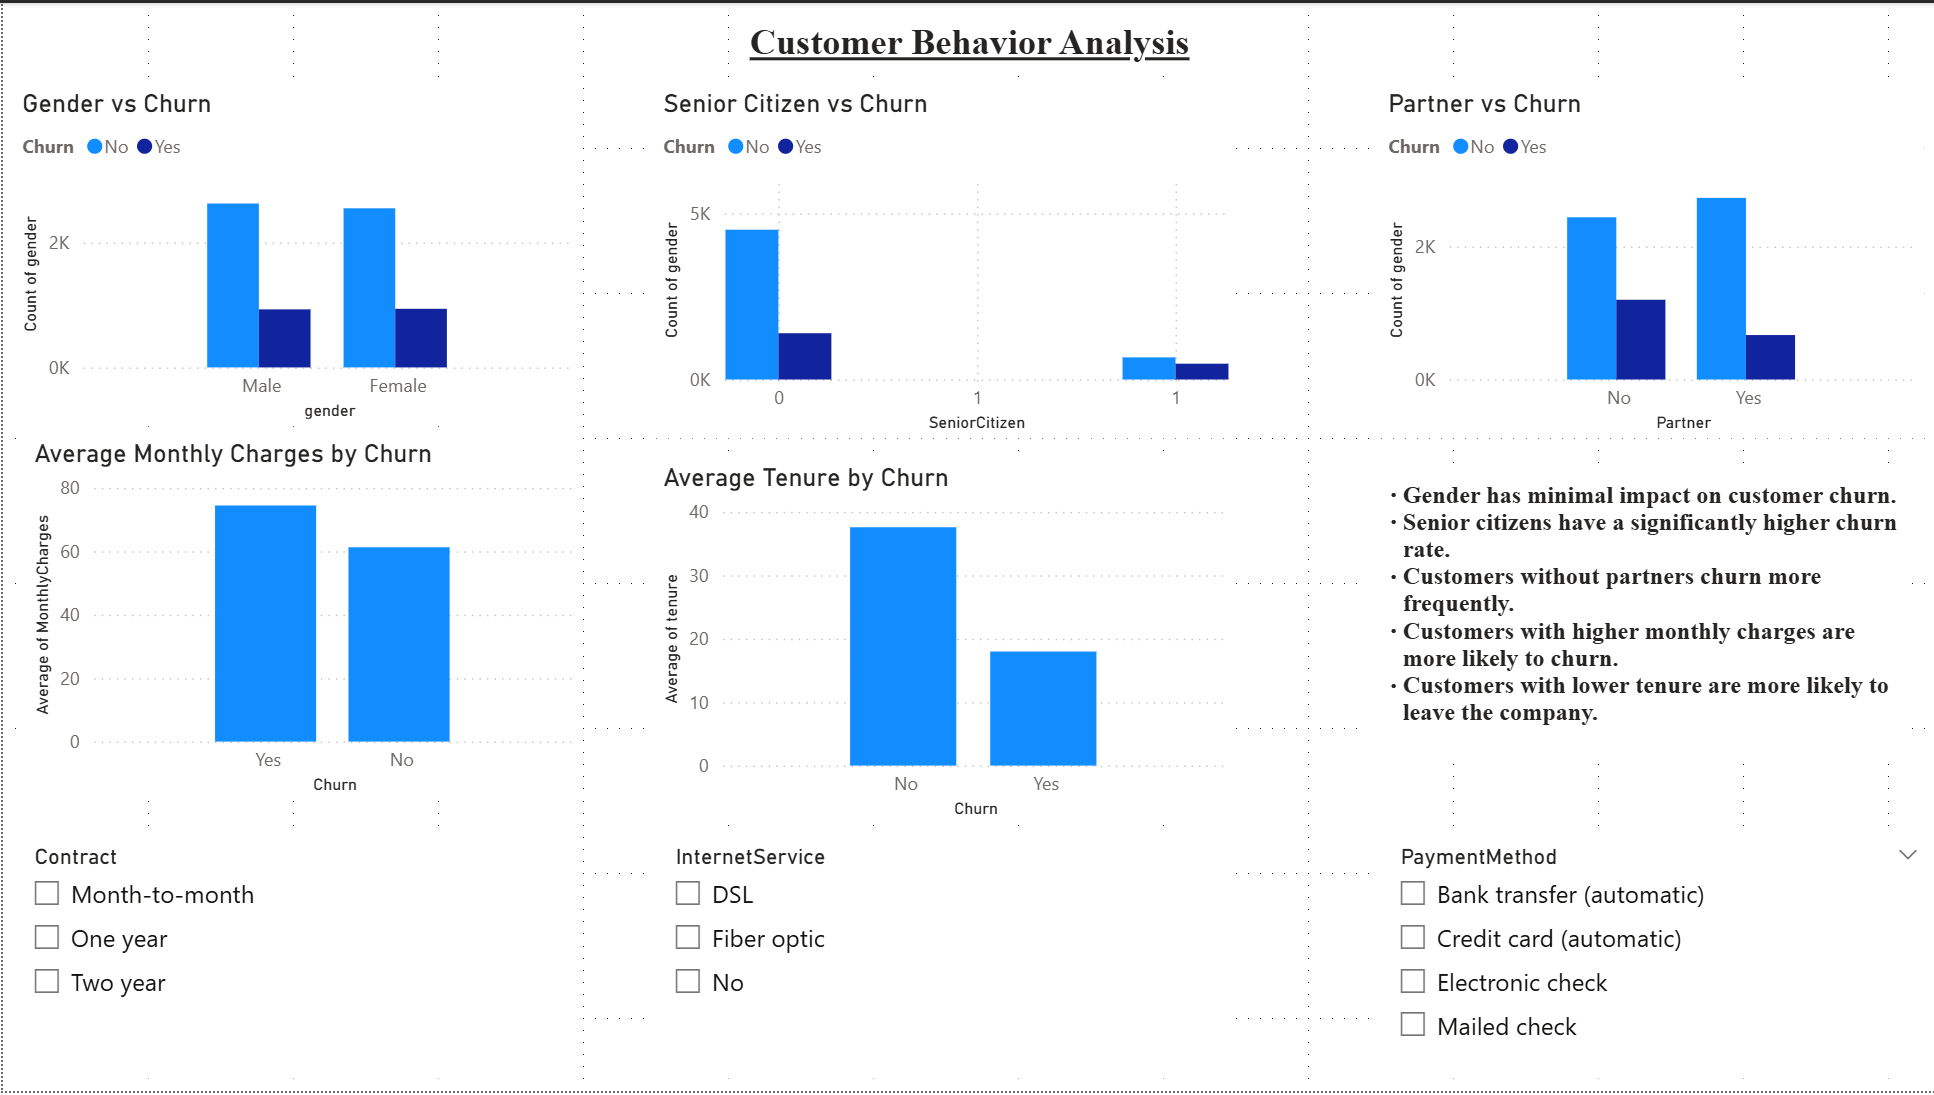

The dashboard page shown, as its layout file describes it:
{"tool":"powerbi","page":{"name":"Customer Behavior Analysis","canvas":[1280,720],"ordinal":1},"visuals":[{"type":"clusteredColumnChart","title":"Gender vs Churn","fields":{"Category":["Telco-Customer-Churn.gender"],"Series":["Telco-Customer-Churn.Churn"],"Y":["CountNonNull(Telco-Customer-Churn.gender)"]},"box":[8,56,376,224],"z":0},{"type":"clusteredColumnChart","title":"Senior Citizen vs Churn","fields":{"Category":["Telco-Customer-Churn.SeniorCitizen"],"Series":["Telco-Customer-Churn.Churn"],"Y":["CountNonNull(Telco-Customer-Churn.gender)"]},"box":[432,56,384,232],"z":1000},{"type":"clusteredColumnChart","title":"Partner vs Churn","fields":{"Category":["Telco-Customer-Churn.Partner"],"Y":["CountNonNull(Telco-Customer-Churn.gender)"],"Series":["Telco-Customer-Churn.Churn"]},"box":[912,56,360,232],"z":2000},{"type":"clusteredColumnChart","title":"Average Monthly Charges by Churn","fields":{"Category":["Telco-Customer-Churn.Churn"],"Y":["Avg(Telco-Customer-Churn.MonthlyCharges)"]},"box":[16,288,368,240],"z":3000},{"type":"clusteredColumnChart","title":"Average Tenure by Churn","fields":{"Category":["Telco-Customer-Churn.Churn"],"Y":["Avg(Telco-Customer-Churn.tenure)"]},"box":[432,304,384,240],"z":4000},{"type":"slicer","fields":{"Values":["Telco-Customer-Churn.Contract"]},"box":[8,552,376,160],"z":5000},{"type":"slicer","fields":{"Values":["Telco-Customer-Churn.InternetService"]},"box":[432,552,384,160],"z":6000},{"type":"slicer","fields":{"Values":["Telco-Customer-Churn.PaymentMethod"]},"box":[912,552,368,160],"z":7000},{"type":"textbox","box":[904,312,360,192],"z":8000},{"type":"textbox","box":[488,8,304,40],"z":8001}]}

Visuals, with their boxes in screenshot pixels (x1, y1, x2, y2), scaled from the page's 1280x720 canvas onto the 1934x1095 screenshot:
"Gender vs Churn" clusteredColumnChart: <bbox>12, 85, 580, 426</bbox>
"Senior Citizen vs Churn" clusteredColumnChart: <bbox>653, 85, 1233, 438</bbox>
"Partner vs Churn" clusteredColumnChart: <bbox>1378, 85, 1922, 438</bbox>
"Average Monthly Charges by Churn" clusteredColumnChart: <bbox>24, 438, 580, 803</bbox>
"Average Tenure by Churn" clusteredColumnChart: <bbox>653, 462, 1233, 827</bbox>
slicer - Telco-Customer-Churn.Contract: <bbox>12, 840, 580, 1083</bbox>
slicer - Telco-Customer-Churn.InternetService: <bbox>653, 840, 1233, 1083</bbox>
slicer - Telco-Customer-Churn.PaymentMethod: <bbox>1378, 840, 1933, 1083</bbox>
textbox: <bbox>1366, 474, 1910, 766</bbox>
textbox: <bbox>737, 12, 1197, 73</bbox>
